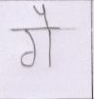ai_matra: (33, 4, 54, 27)
